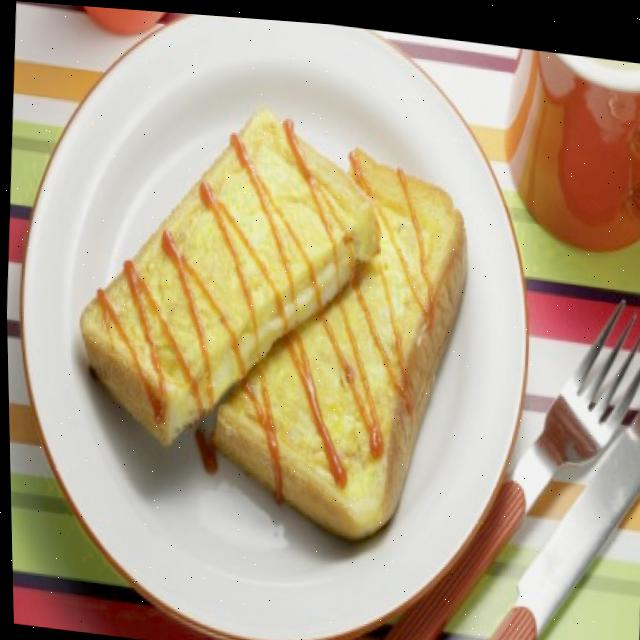面包点心: (67, 56, 480, 539)
